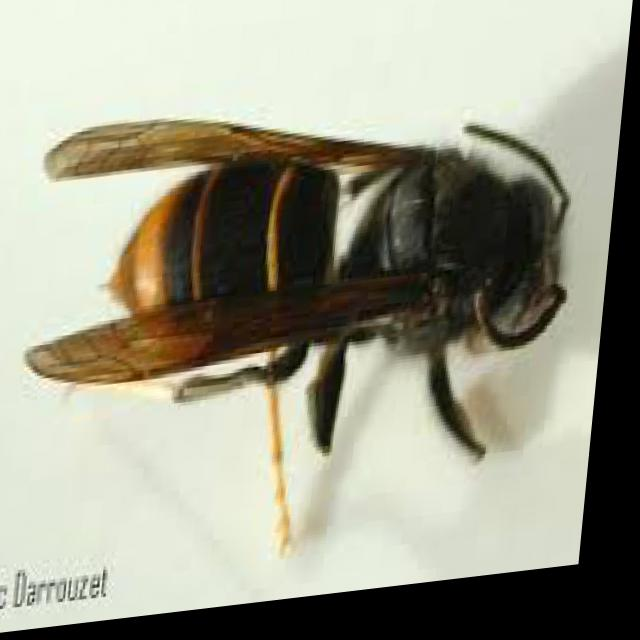Vespa Velutina: (1, 76, 601, 612)
